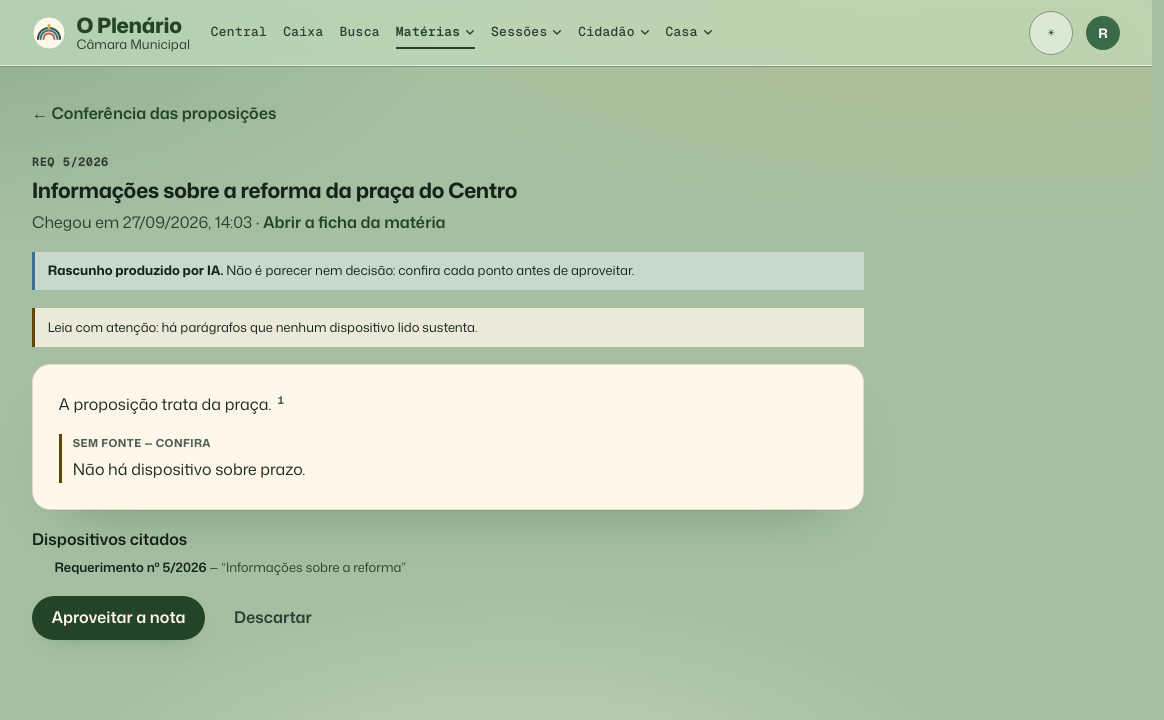
conferências › decisão em conflito aparece com a mensagem do sistema
Click the button "Aproveitar a nota" at {"x": 118, "y": 618}, box [32, 596, 205, 640]
(page scrolled)
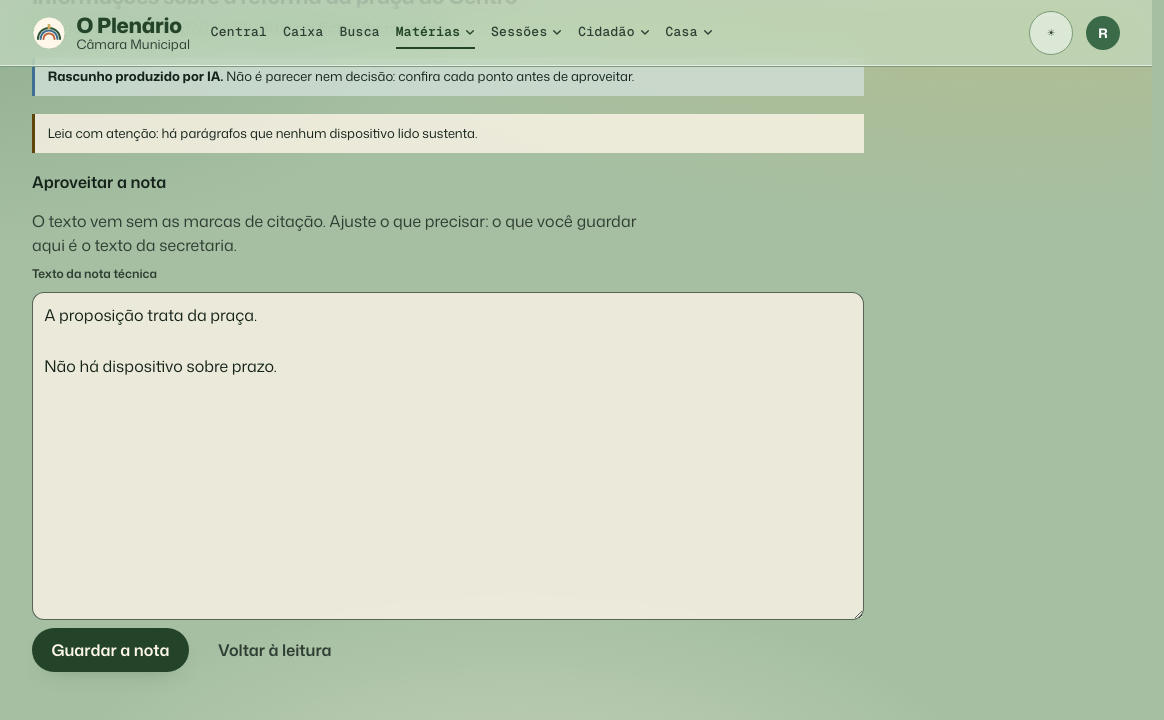
Click the button "Guardar a nota" at {"x": 110, "y": 650}, box [32, 628, 189, 672]
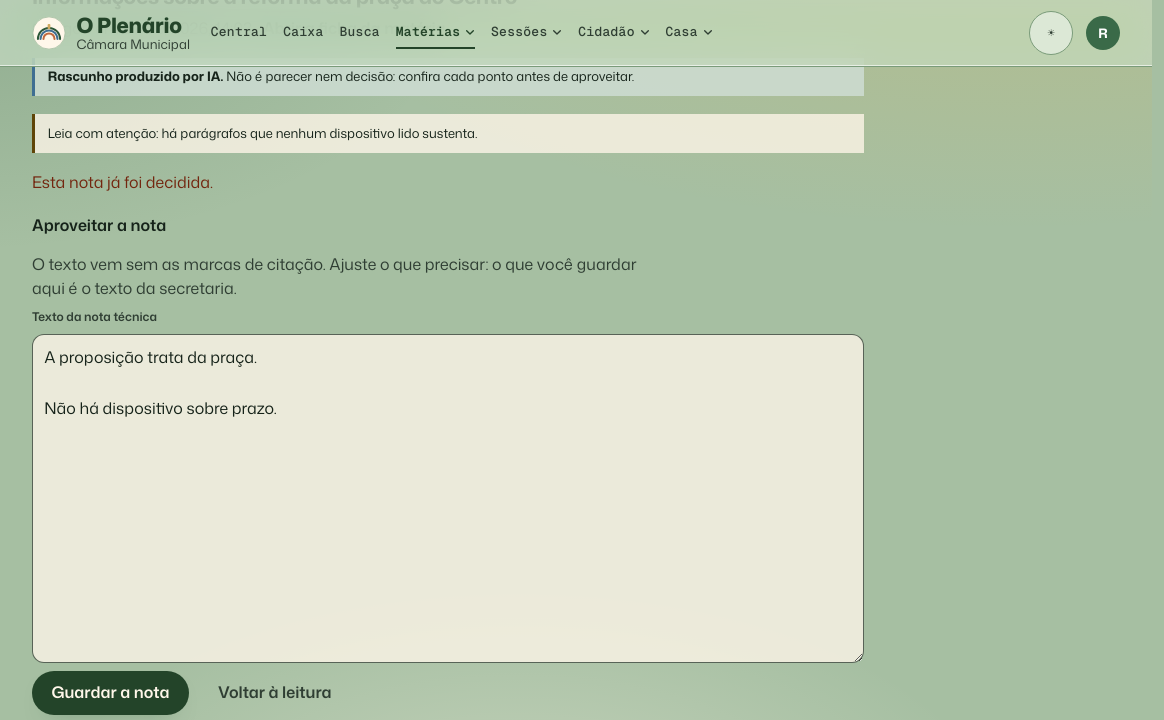
Expected: the message reads "Esta nota já foi decidida.", [32, 171, 213, 193]
